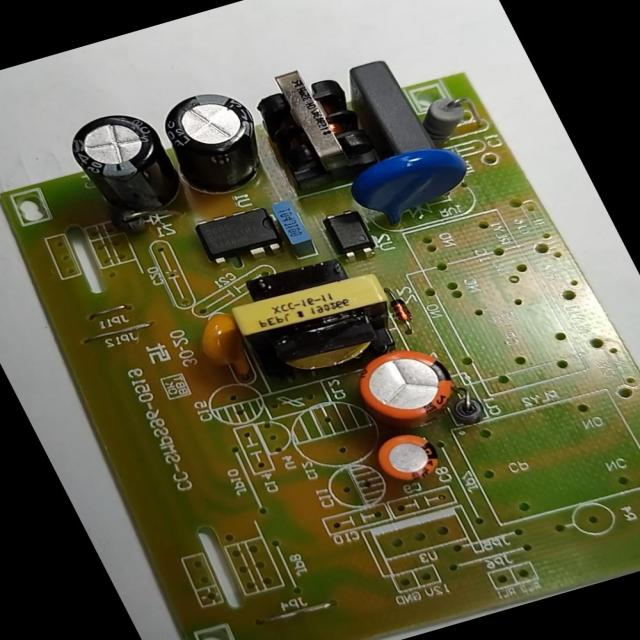Cap1: (345, 337, 472, 440)
Cap2: (366, 426, 447, 488)
Cap3: (146, 82, 280, 200)
Cap4: (61, 104, 189, 220)
MOSFET: (189, 202, 288, 267)
Mov: (336, 138, 479, 230)
Resistor: (412, 90, 478, 142)
Transformer: (214, 248, 410, 390), (244, 58, 381, 185)
